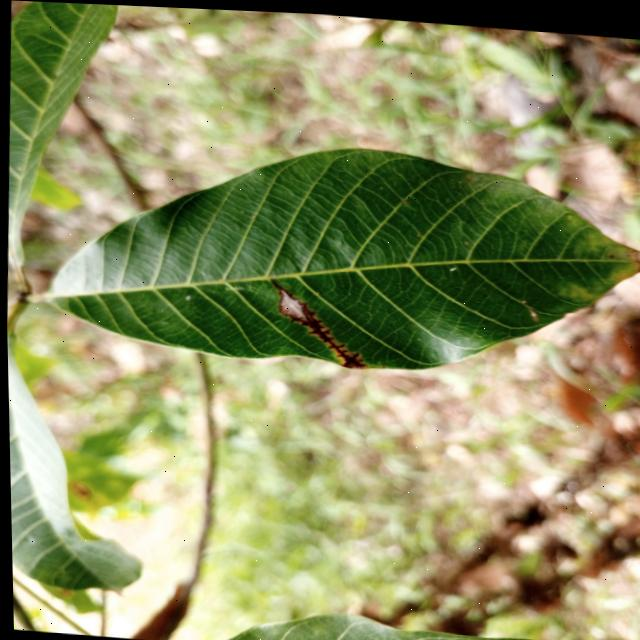Corynespora: (267, 276, 366, 365)
Leaf-Blight: (631, 244, 640, 265)
